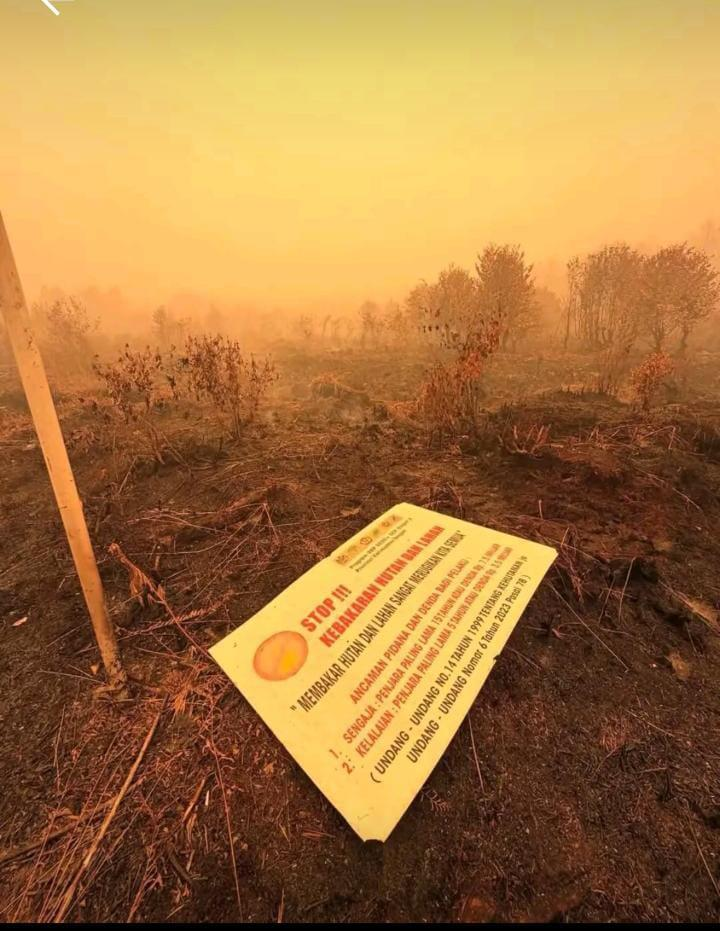Deteksi-Objek-Citra-Berasap: (0, 0, 720, 375)
Vegetasi: (559, 238, 719, 406), (83, 326, 283, 454), (407, 262, 492, 440), (468, 240, 540, 365), (40, 285, 114, 377)
